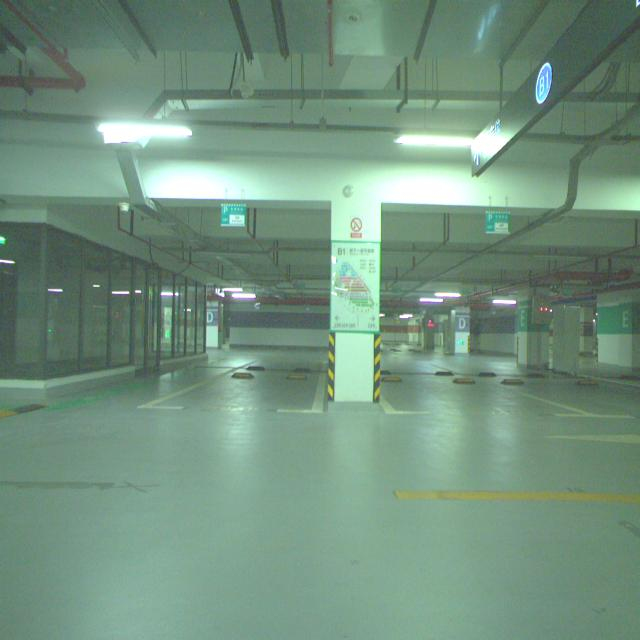pillar: (518, 299, 551, 369)
